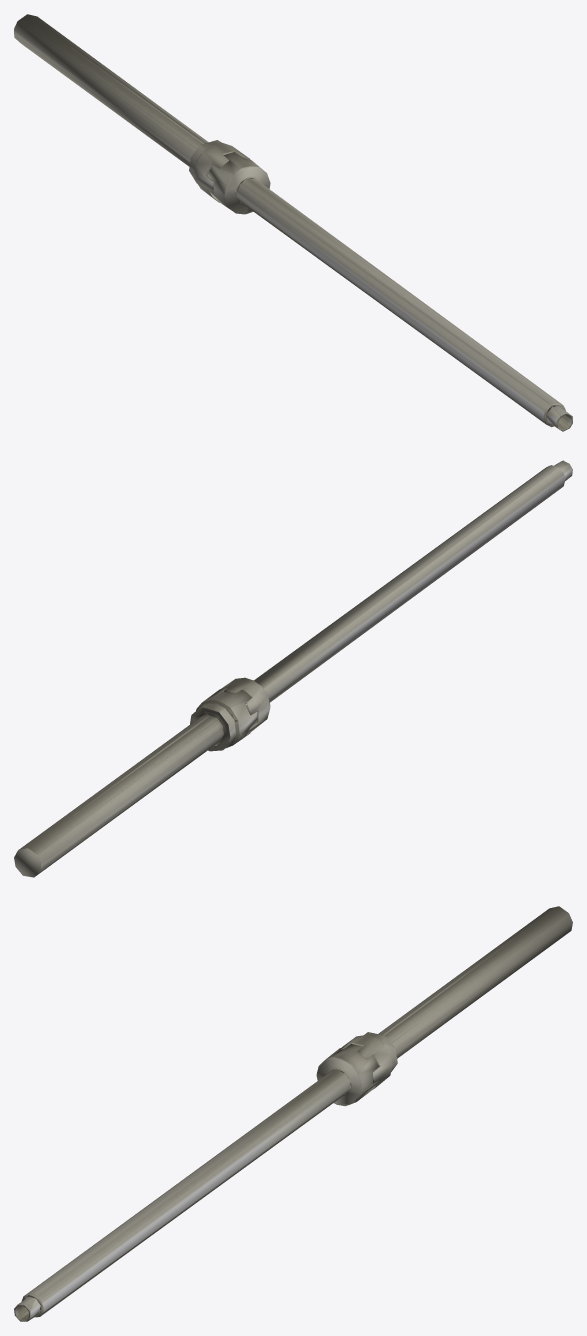
3 views of the same model, one above another, from view 1: azimuth 30°, elevation 25°; view 2: azimuth 150°, elevation 25°; view 3: azimuth 330°, elevation 25° (orthographic).
Parts seen in each view (by area): view 1: Eje.013_Mesh.1262; view 2: Eje.013_Mesh.1262; view 3: Eje.013_Mesh.1262.
Boxes of the visible parts, x1=… form: Eje.013_Mesh.1262: x1=14, y1=14, x2=572, y2=431; Eje.013_Mesh.1262: x1=14, y1=460, x2=572, y2=877; Eje.013_Mesh.1262: x1=14, y1=906, x2=572, y2=1321.
Bounding box in the file's own units: 0.0527 × 0.0519 × 1.06.
1 material, 1 textured.
